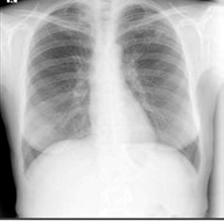tuberculosis: (11, 0, 207, 194)
